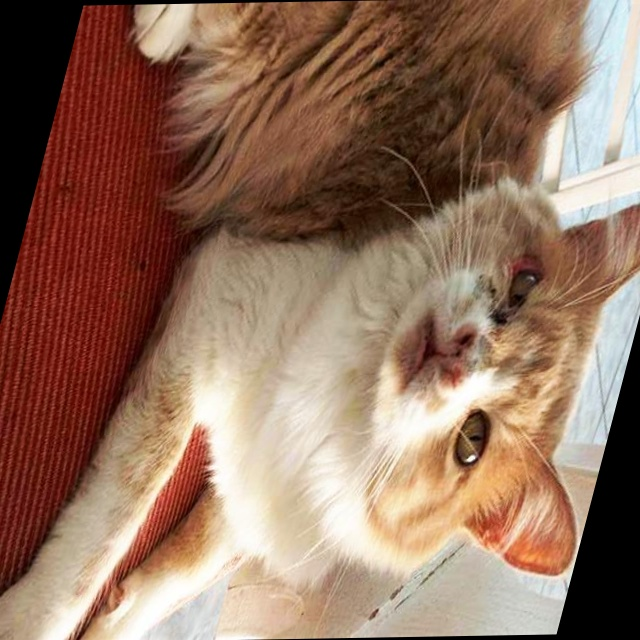eye_infection: (496, 260, 555, 311)
